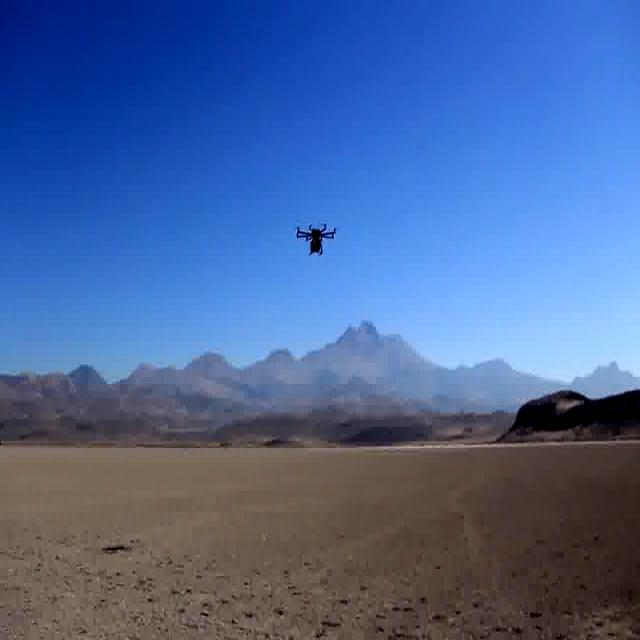drone: (292, 212, 339, 258)
